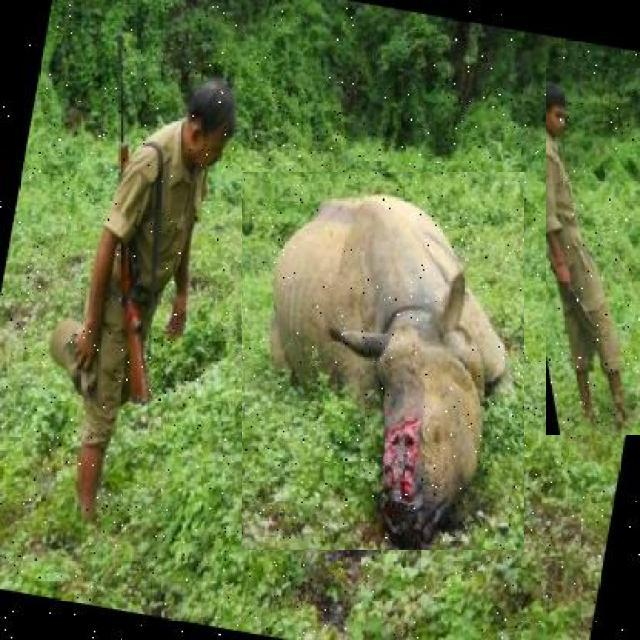p_collect: (242, 172, 524, 550)
poacher: (48, 31, 248, 534), (546, 68, 640, 435)
weapon: (98, 29, 160, 414)
